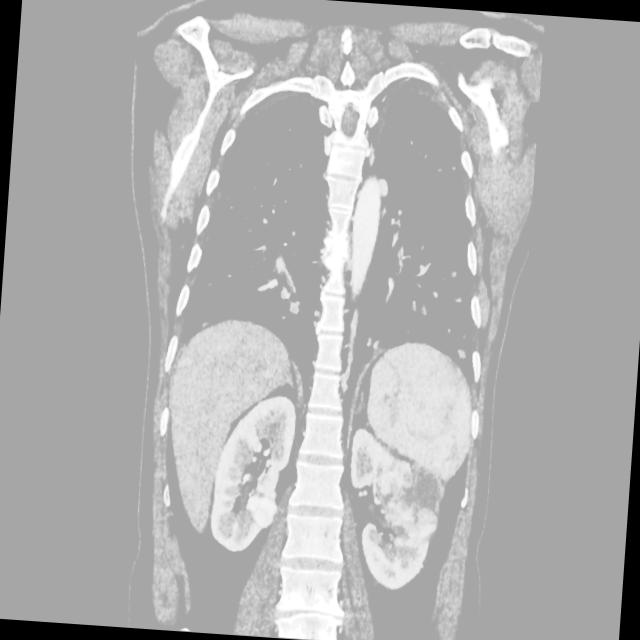TUMOR: (107, 195, 548, 541)
